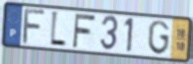1: (123, 16, 135, 54)
3: (98, 14, 120, 54)
F: (21, 8, 48, 46), (71, 12, 97, 49)
G: (147, 19, 171, 57)
L: (49, 9, 68, 49)
